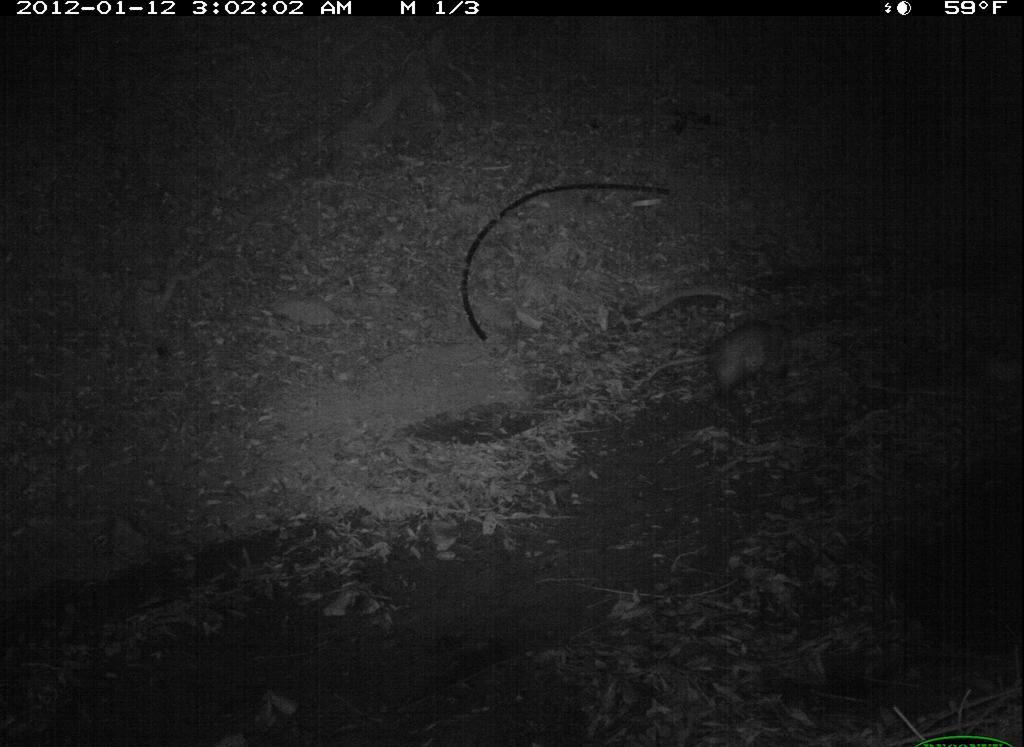opossum: (629, 313, 820, 410)
